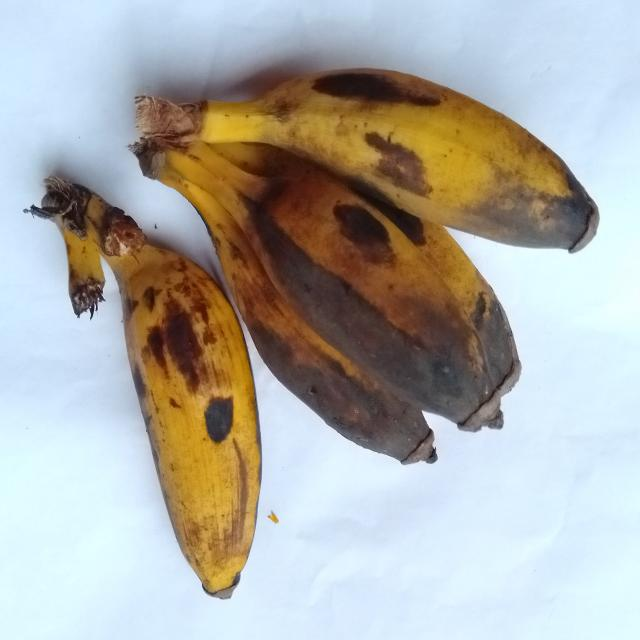banana: (147, 143, 506, 429), (32, 179, 261, 597), (154, 155, 436, 463), (137, 70, 598, 251), (361, 193, 520, 392), (25, 177, 104, 317)
